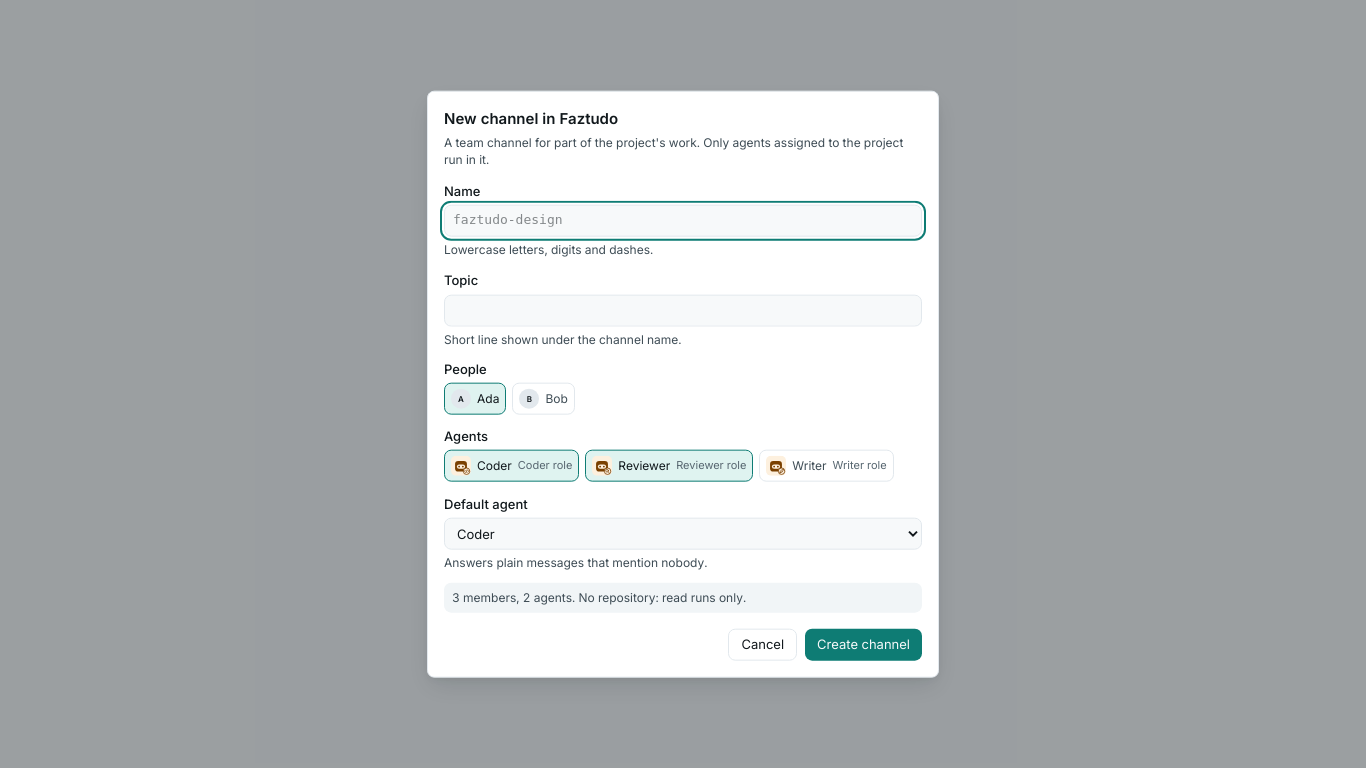
CreateTeamChannelDialog › drops the default agent when that agent is unpicked
Click the checkbox labelled "Coder" at (512, 465), box top-left (444, 449), bottom-right (579, 481)
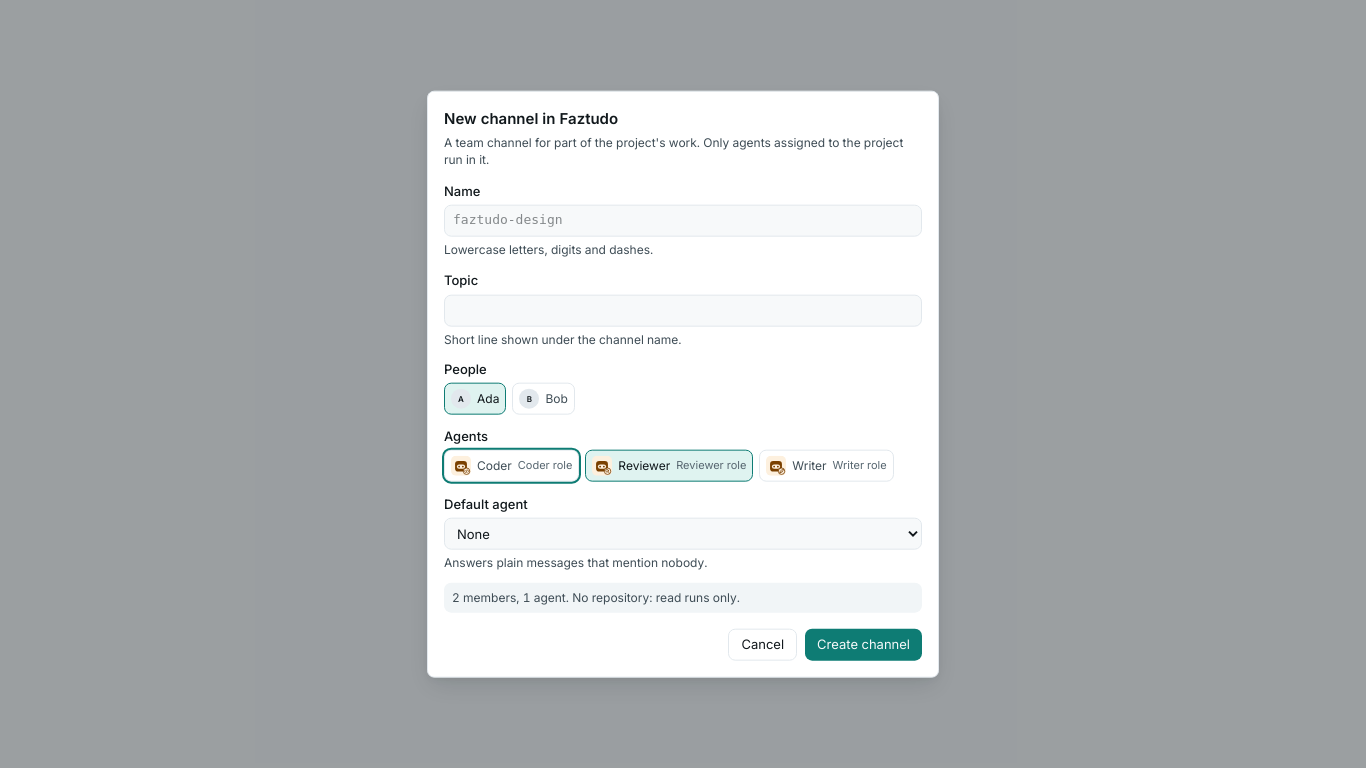
expect the dropdown labelled "Default agent" shows "None": met, box top-left (444, 518), bottom-right (922, 550)
